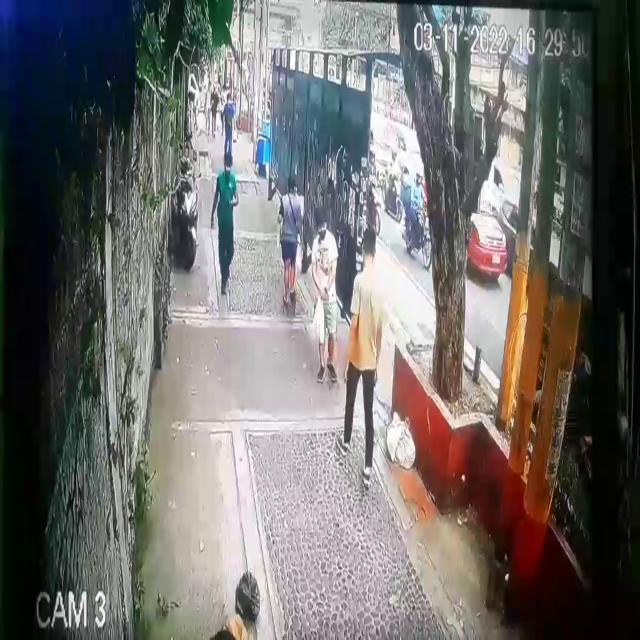garbage_dumping: (312, 290, 327, 351)
